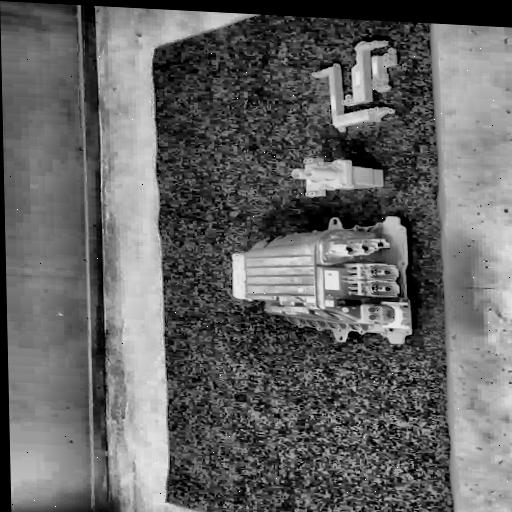bms_unit: (227, 207, 416, 346)
busbar: (307, 33, 406, 135)
connector: (288, 152, 389, 201)
